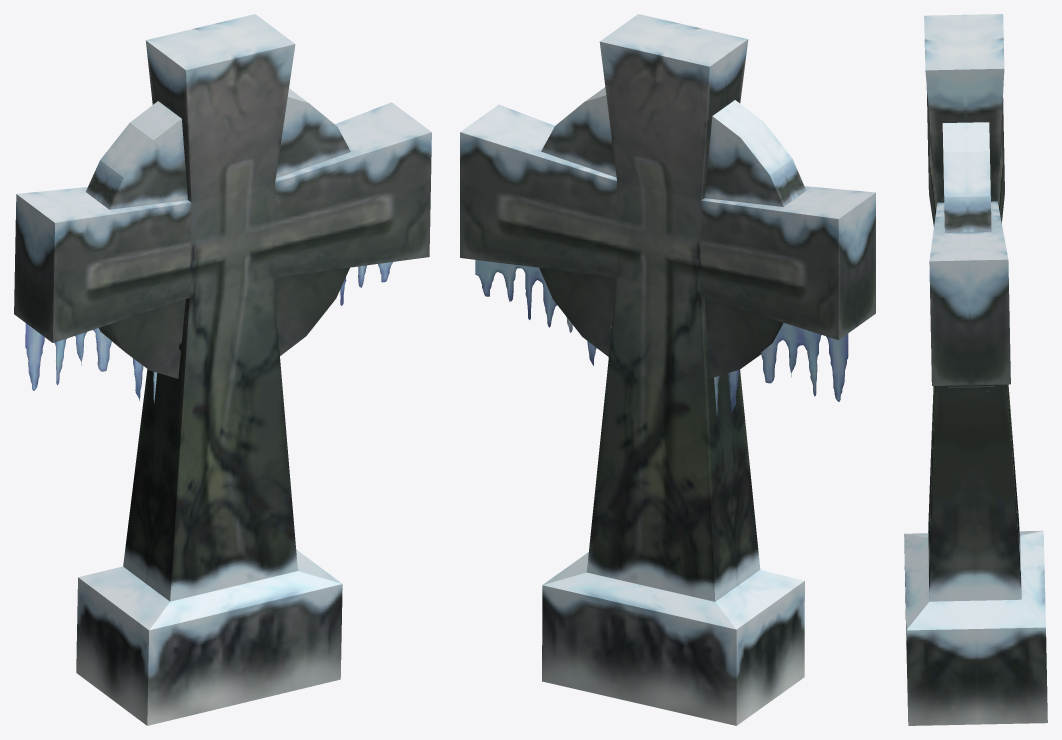
File: 3-1_mubei4.FBX
3 renders of one model, left to right at view 1: azimuth 30°, elevation 25°; view 2: azimuth 150°, elevation 25°; view 3: azimuth 270°, elevation 25°, orthographic.
Visible parts, largest first — view 1: 3-1_mubei4; view 2: 3-1_mubei4; view 3: 3-1_mubei4.
Boxes of the visible parts, left/top/right/bottom form: 3-1_mubei4: left=14, top=14, right=431, bottom=725; 3-1_mubei4: left=460, top=14, right=875, bottom=725; 3-1_mubei4: left=904, top=14, right=1047, bottom=725.
Size of the model in its own units: 109 by 176 by 35.88.
